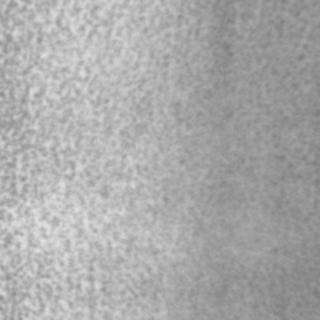pitted_surface: (1, 1, 258, 316)
